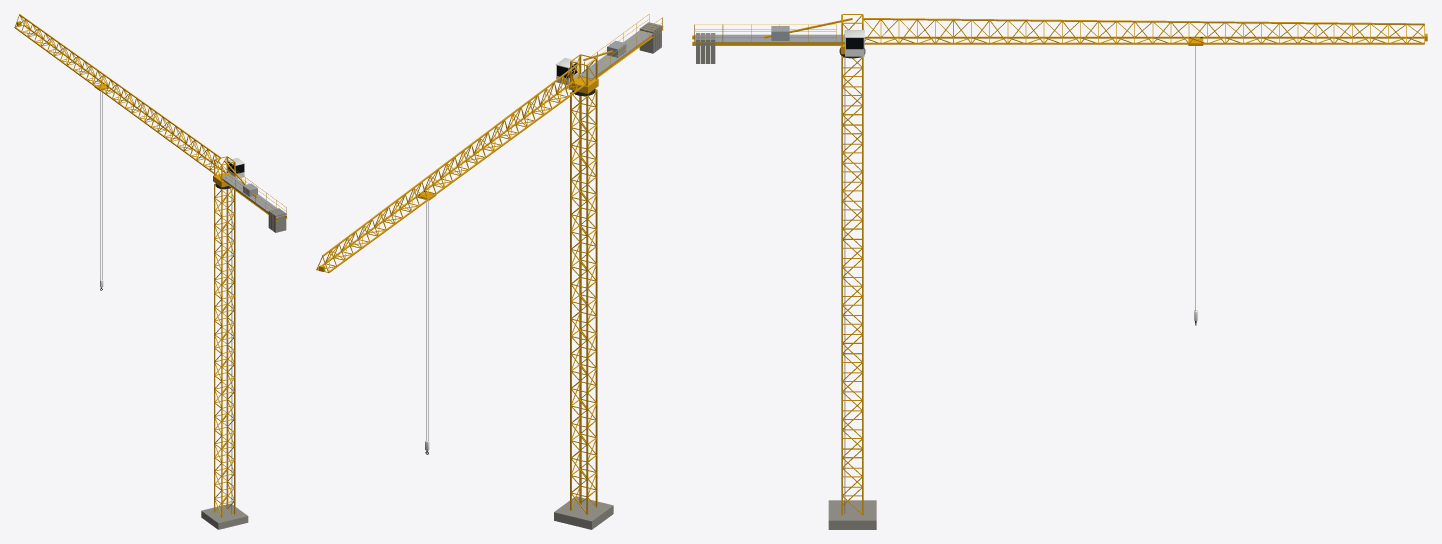
The model's file is plant.crane.tower_flat_45.glb.
3 views of the same model, side by side, from view 1: azimuth 30°, elevation 25°; view 2: azimuth 150°, elevation 25°; view 3: azimuth 270°, elevation 25° (orthographic). The views are drawn at different scales.
Parts seen in each view (by area): view 1: mast__plant_yellow, slew__plant_yellow, base__concrete, slew__steel_galvanised, mast__steel_galvanised, slew__concrete, hook__steel_dark; view 2: mast__plant_yellow, slew__plant_yellow, base__concrete, slew__steel_galvanised, hook__steel_dark, slew__concrete; view 3: slew__plant_yellow, mast__plant_yellow, base__concrete, slew__steel_galvanised.
Part boxes in pixels (bbox=[...]): mast__plant_yellow: bbox=[214, 183, 235, 517]; slew__plant_yellow: bbox=[14, 14, 287, 220]; base__concrete: bbox=[201, 503, 248, 529]; slew__steel_galvanised: bbox=[221, 174, 286, 217]; mast__steel_galvanised: bbox=[231, 188, 232, 513]; slew__concrete: bbox=[268, 208, 286, 232]; hook__steel_dark: bbox=[100, 91, 102, 290]; mast__plant_yellow: bbox=[570, 89, 597, 514]; slew__plant_yellow: bbox=[316, 14, 663, 272]; base__concrete: bbox=[554, 496, 613, 529]; slew__steel_galvanised: bbox=[578, 26, 662, 78]; hook__steel_dark: bbox=[425, 201, 428, 454]; slew__concrete: bbox=[639, 22, 661, 53]; slew__plant_yellow: bbox=[692, 14, 1427, 54]; mast__plant_yellow: bbox=[841, 56, 863, 515]; base__concrete: bbox=[828, 500, 876, 529]; slew__steel_galvanised: bbox=[695, 26, 844, 42].
Size of the model in its own units: 4.58 by 48.37 by 64.25.
